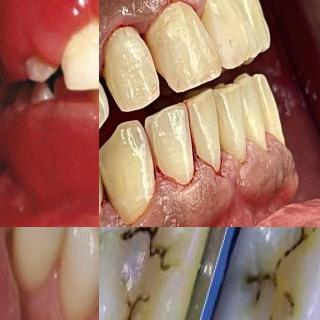Gum Swelling: (5, 99, 99, 207)
cavities: (234, 227, 320, 320), (99, 227, 183, 320)
plaque: (59, 17, 99, 84), (21, 54, 57, 82)
